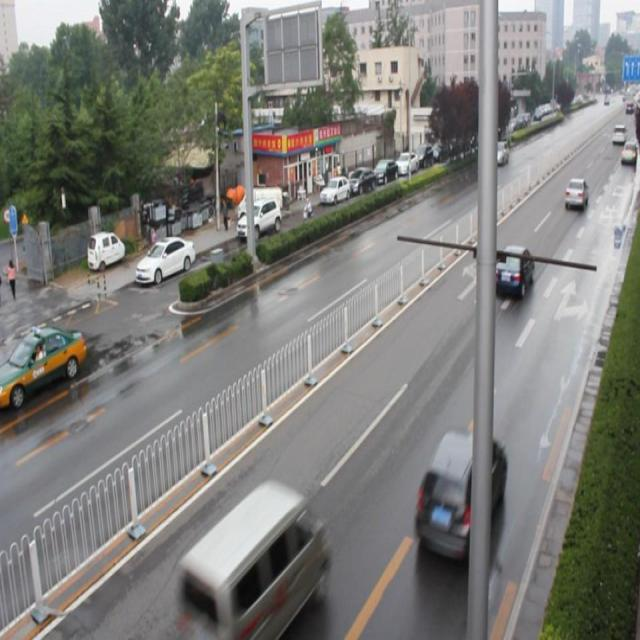car: (415, 428, 506, 563), (490, 243, 532, 296), (563, 176, 586, 213)
truck: (172, 482, 328, 640)
